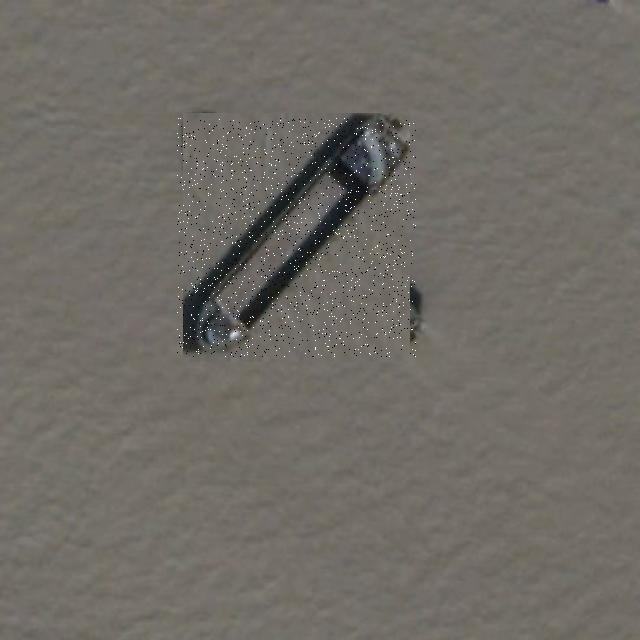boat: (177, 118, 416, 357)
